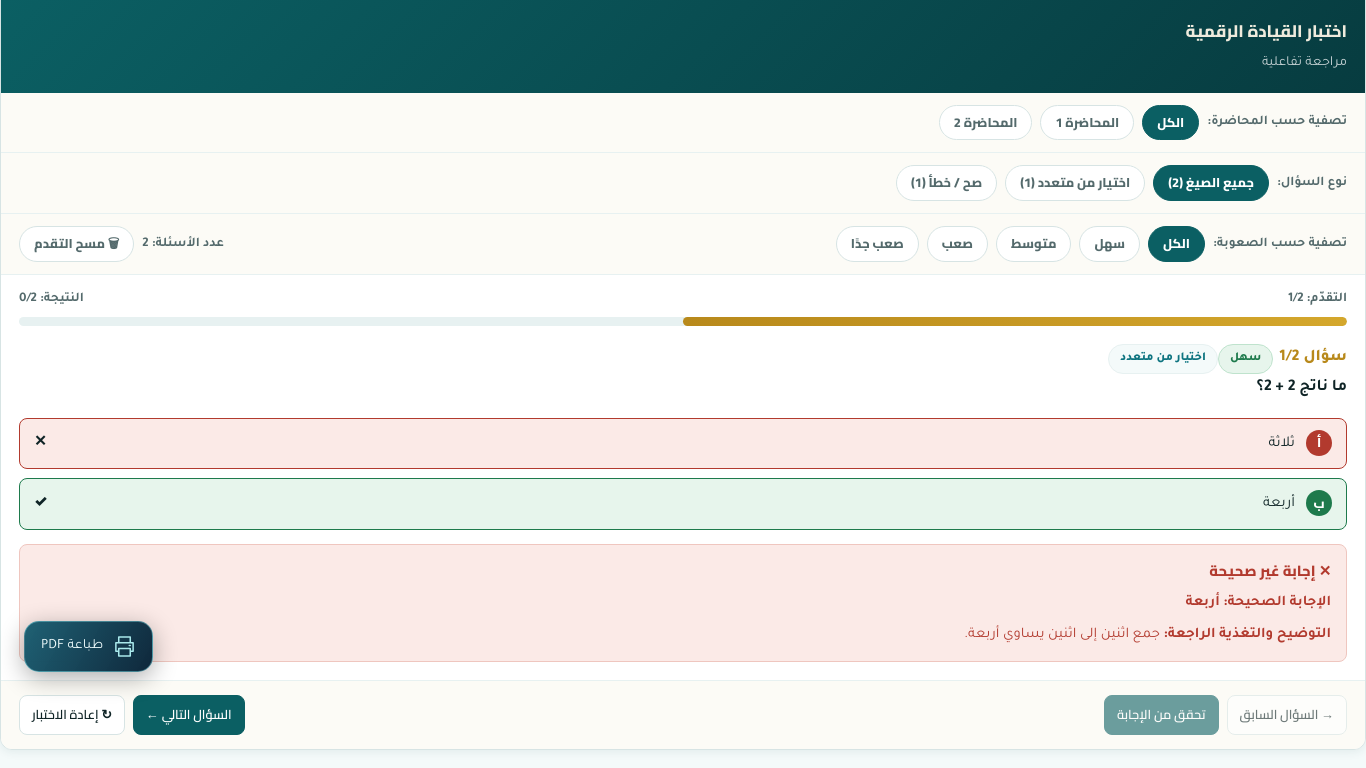
Test case: Finquiz interaction › restores checked selections and feedback on refresh, but ignores feedback for unrecorded questions
(page scrolled)
Expected: the text "✕ إجابة غير صحيحة" is shown, [1209,557,1331,584]
Click the button "السؤال التالي ←". click: (189, 715)
box: [133,695,245,735]
(page scrolled)
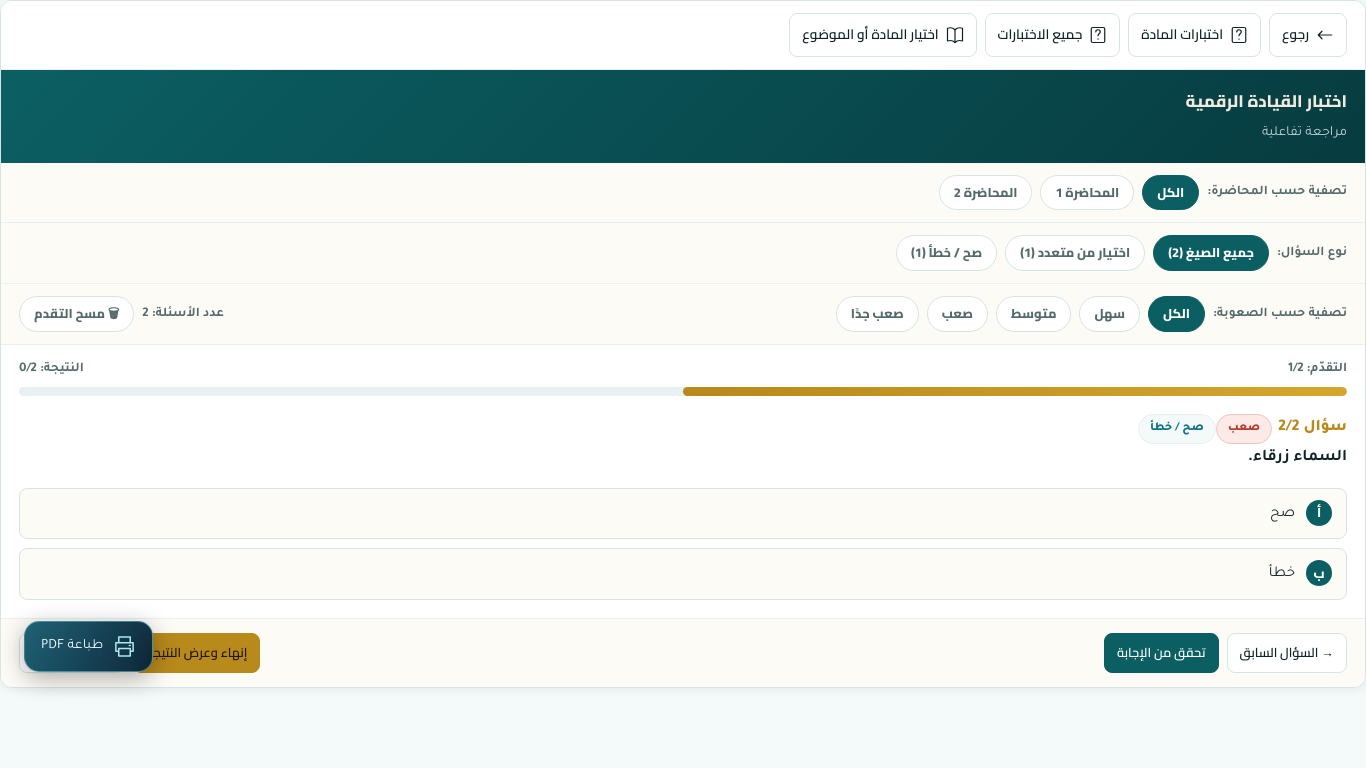
Expected: the text "✕ إجابة غير صحيحة" is gone
Expected: the button "أ صح" is enabled, [19,488,1347,539]
